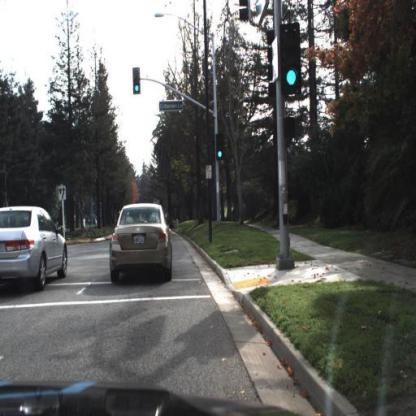car: (1, 206, 70, 290), (110, 200, 174, 286)
trafficLight: (280, 21, 302, 94), (216, 133, 225, 163), (133, 67, 141, 94)
